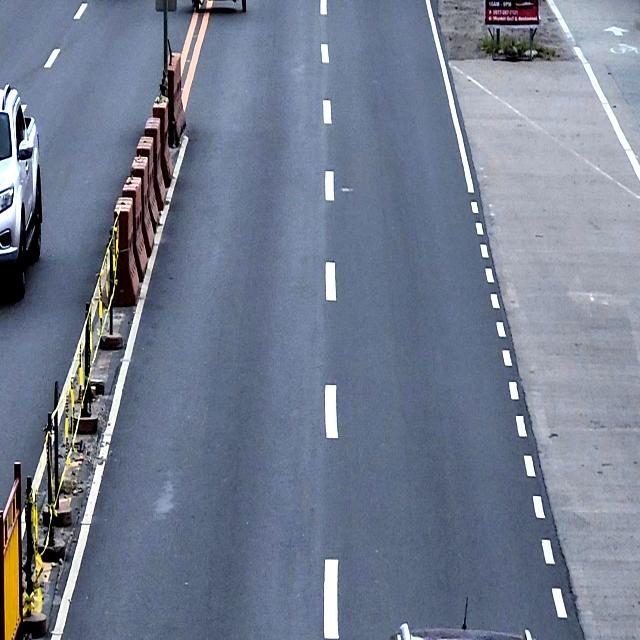Car: (0, 84, 42, 300)
